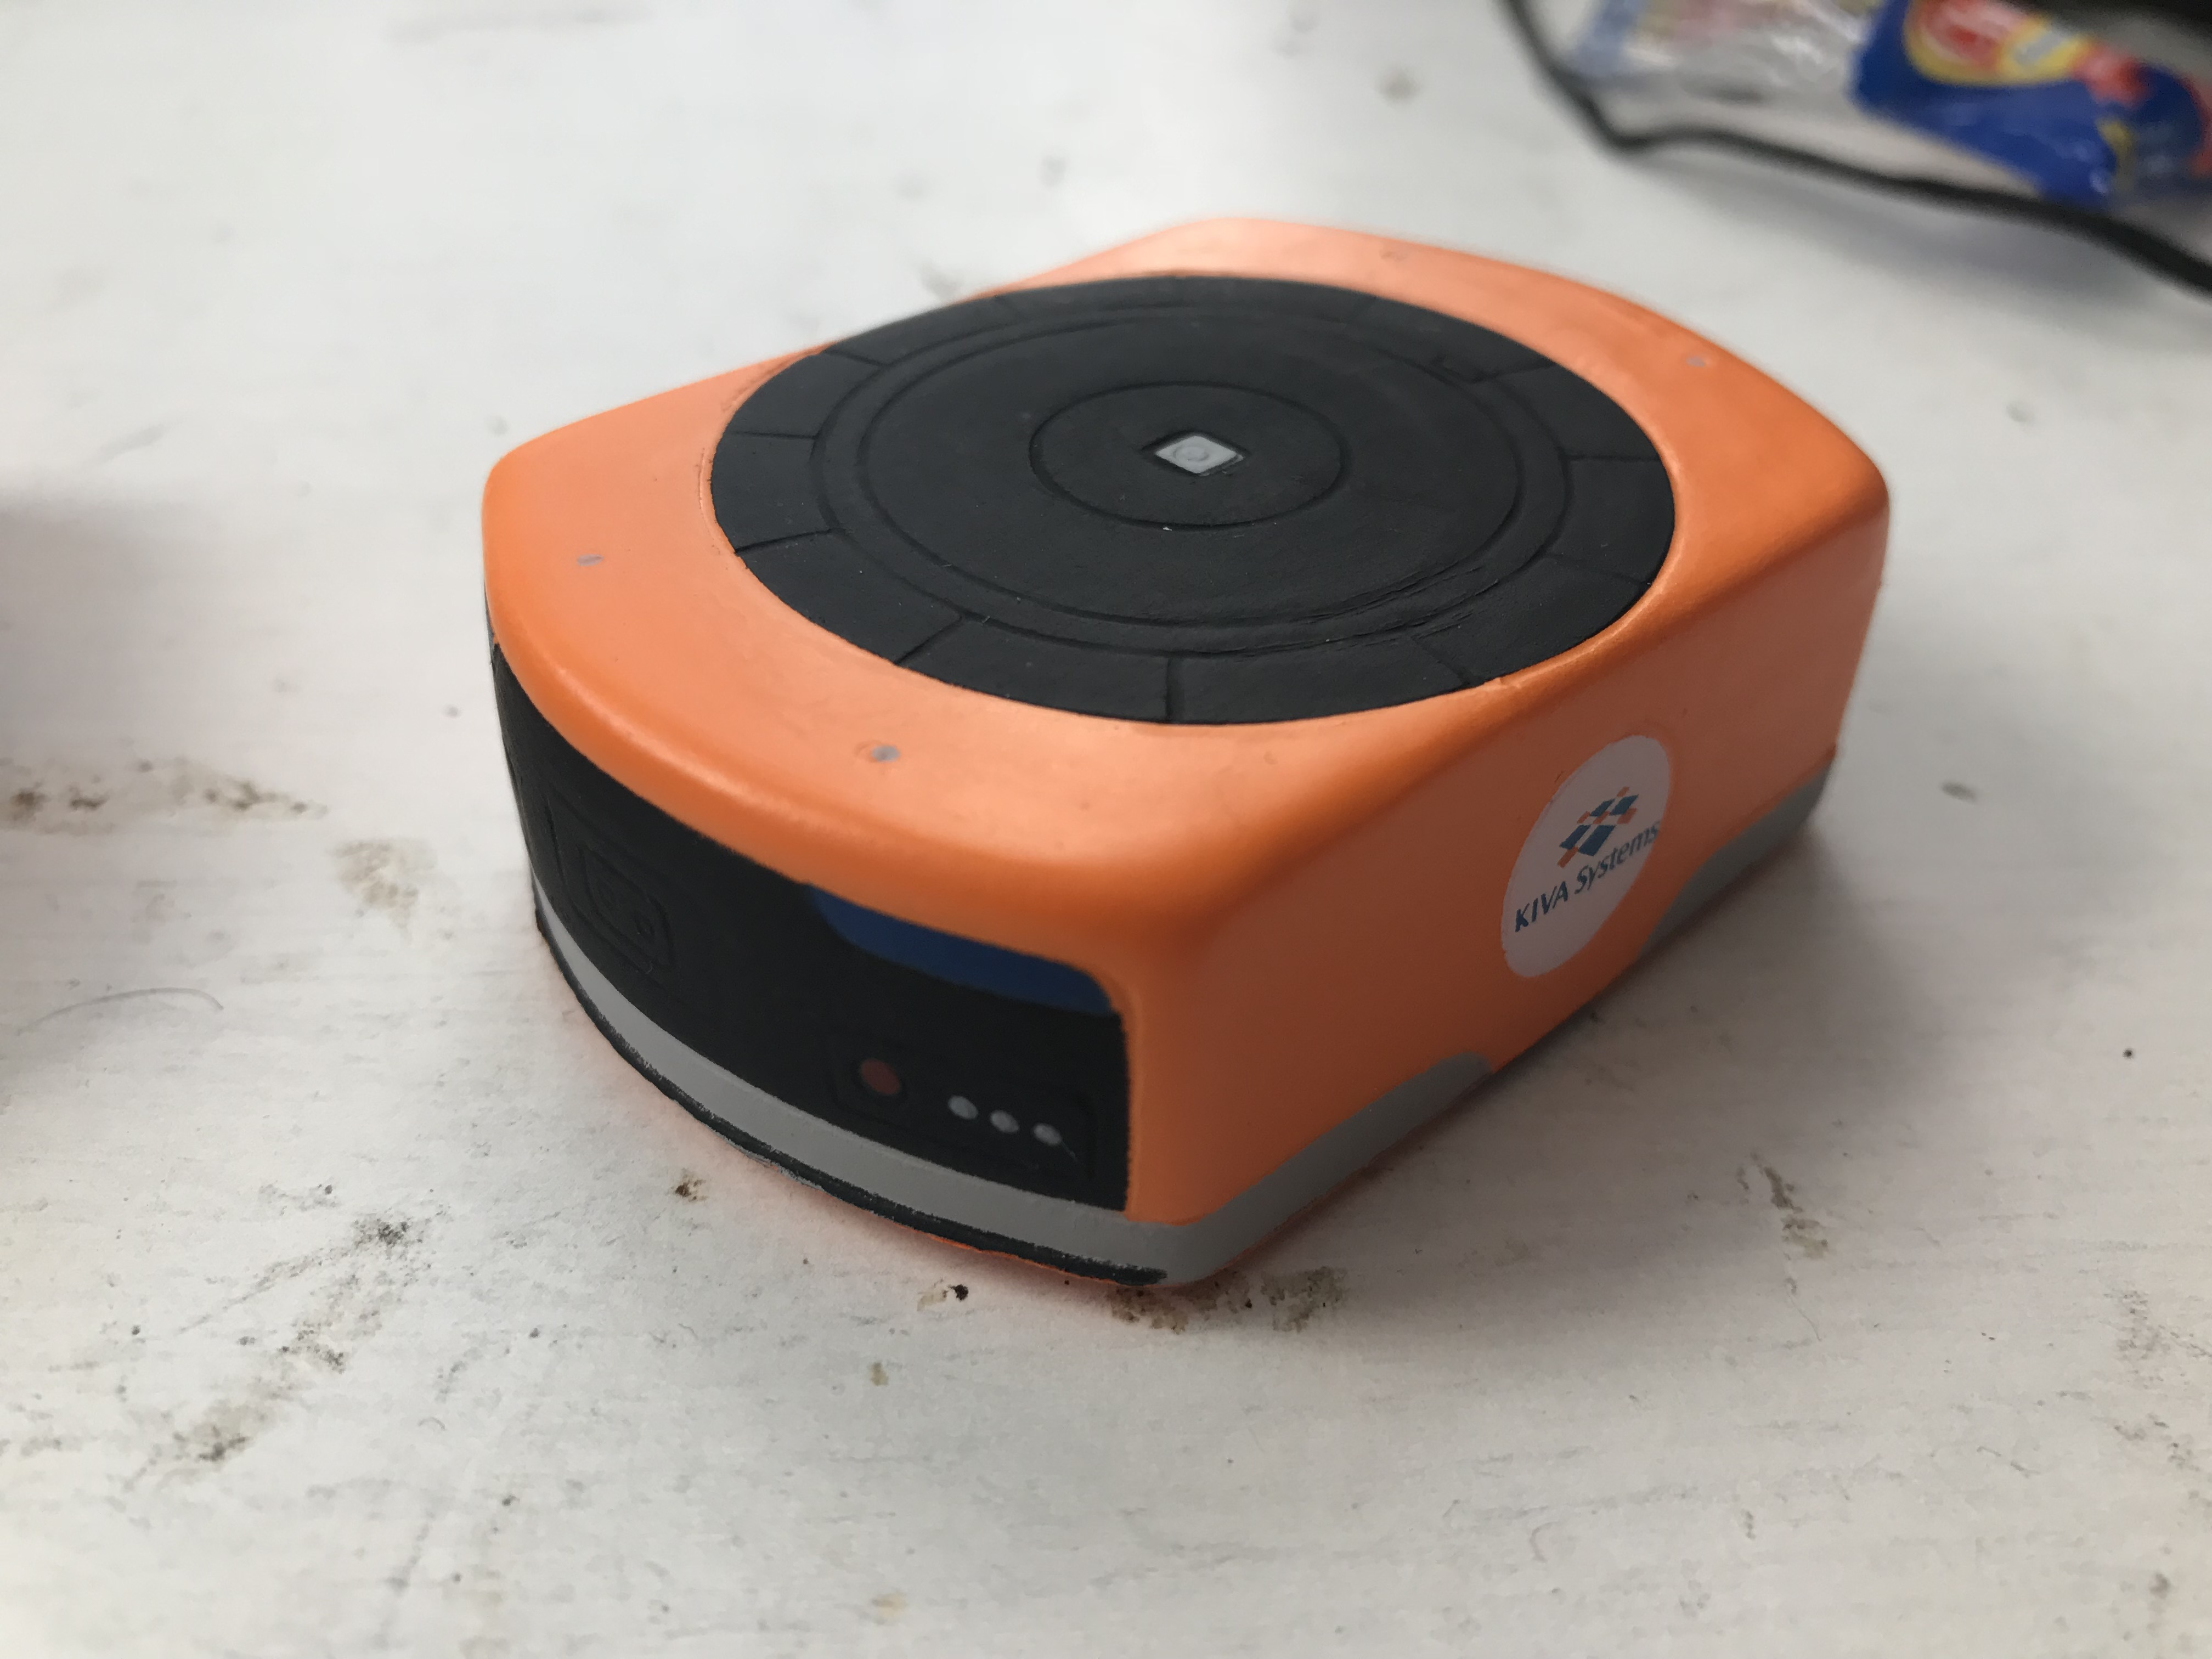amazon_bot: (399, 192, 1933, 1352)
